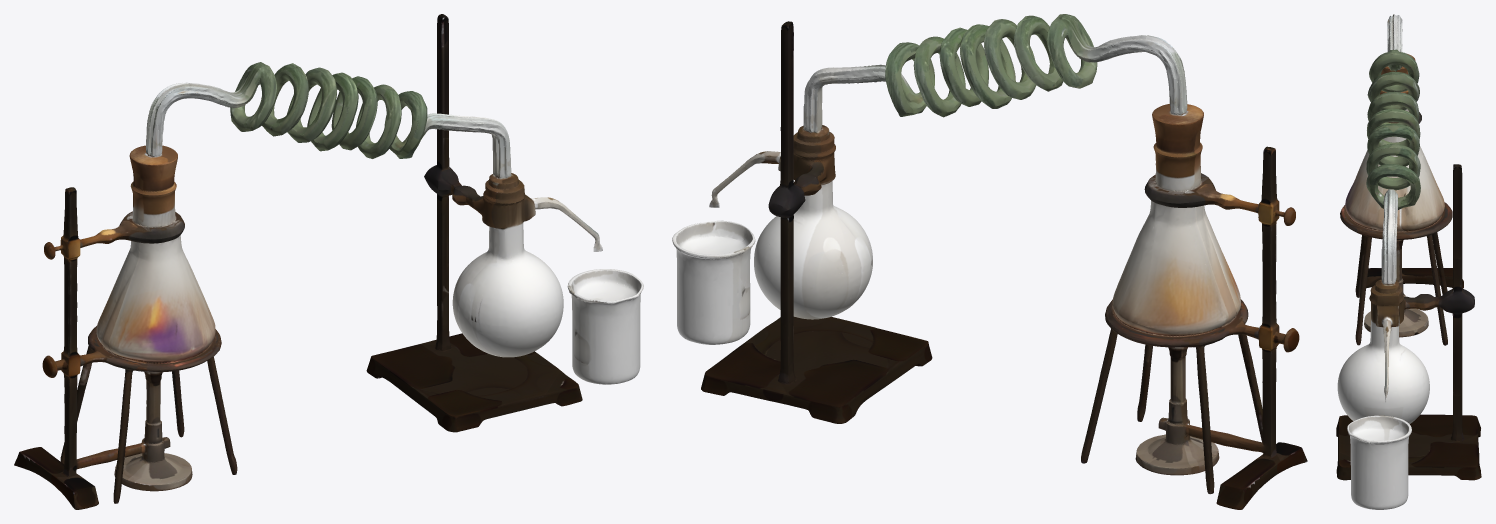
The model's file is base_basic_pbr.glb.
3 views of the same model, side by side, from view 1: azimuth 30°, elevation 25°; view 2: azimuth 150°, elevation 25°; view 3: azimuth 270°, elevation 25° (orthographic). The views are drawn at different scales.
Parts seen in each view (by area): view 1: model; view 2: model; view 3: model.
Boxes of the visible parts, x1,y1,x2,y2 form: model: (14,14,643,509); model: (672,14,1307,509); model: (1336,14,1481,509).
Bounding box in the file's own units: 1.9 × 1.2 × 0.4984.
Materials: 1 (1 with a texture image).
